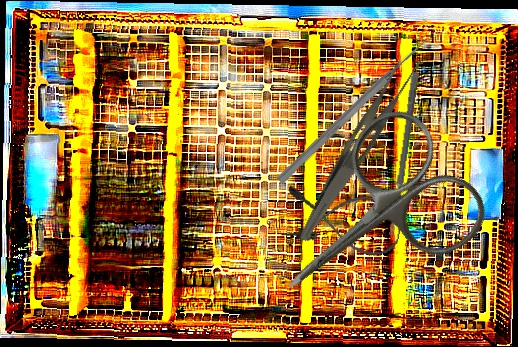Cannula: (279, 181, 406, 260)
Dressing Forceps: (297, 47, 425, 253)
Iris Scissors: (240, 96, 499, 347)
Pusher: (275, 34, 431, 187)
Surgical Spoon: (388, 71, 419, 237)
